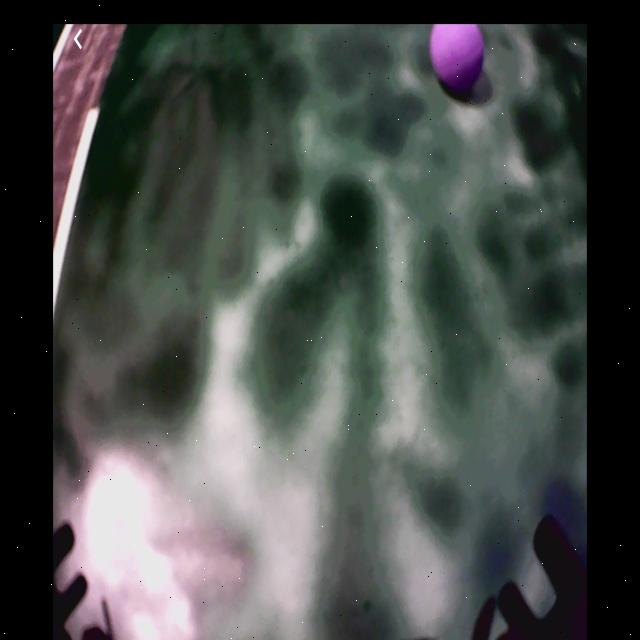ball: (431, 25, 485, 89)
